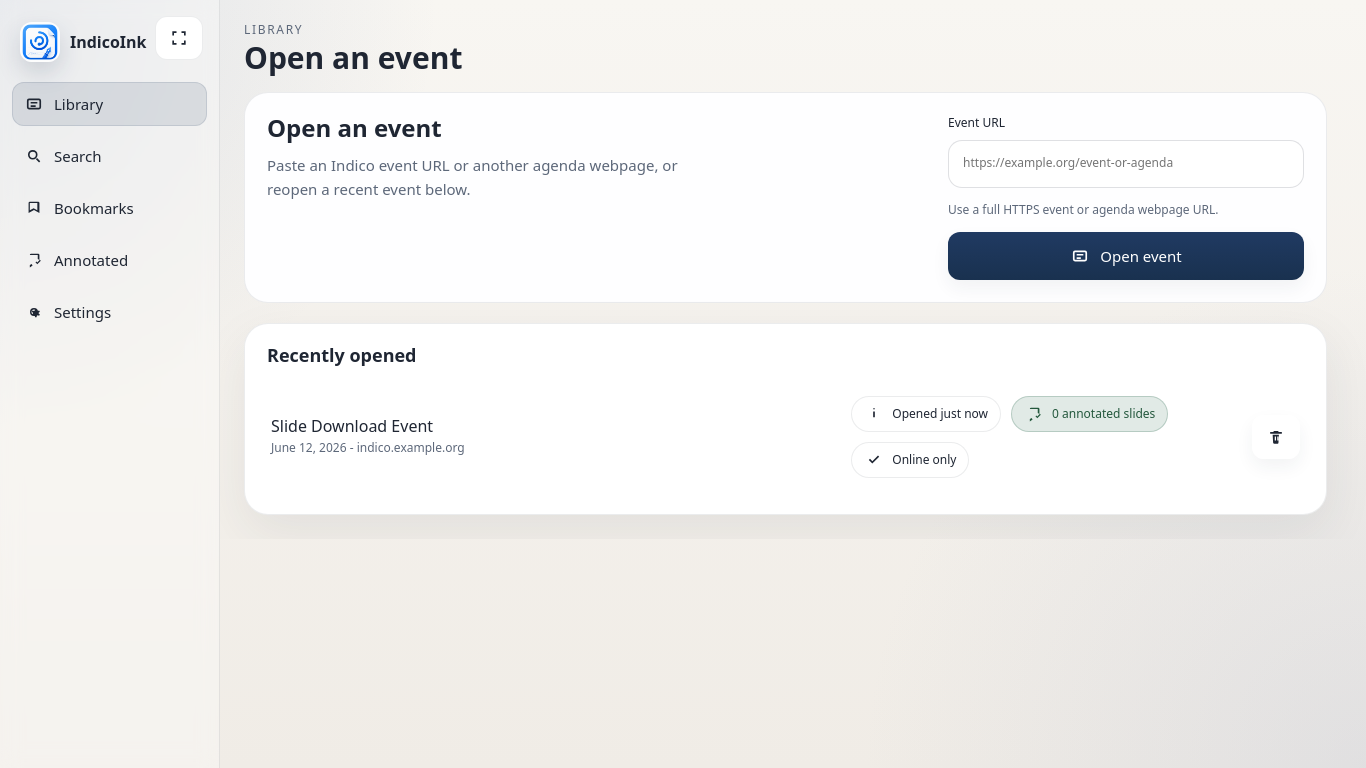
Test case: App › updates slide progress from download events while sampling the transfer rate more slowly
Click the button with aria-label "Open Slide Download Event" at (352,426), box [267,382,1304,492]
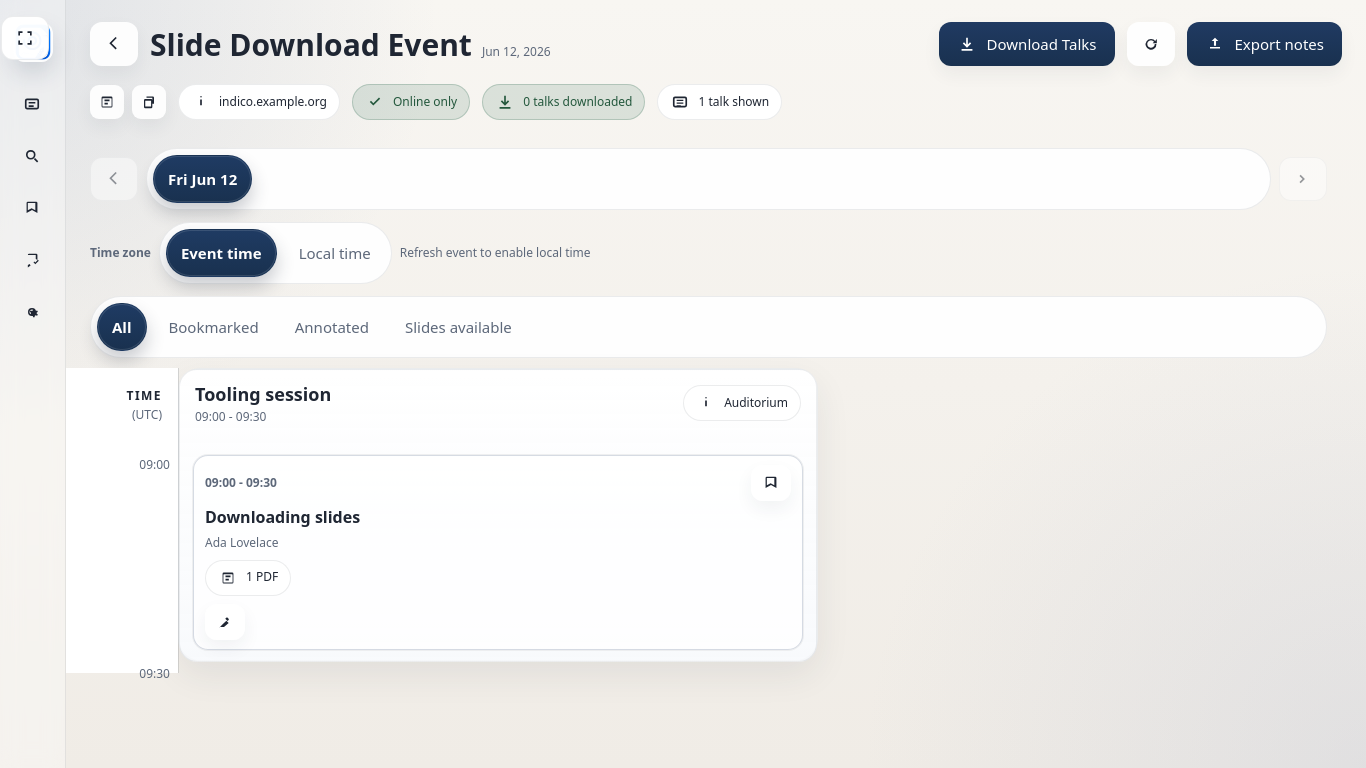
Click the button with aria-label "Open talk for Downloading slides" at (241,482), box [192,454,804,651]
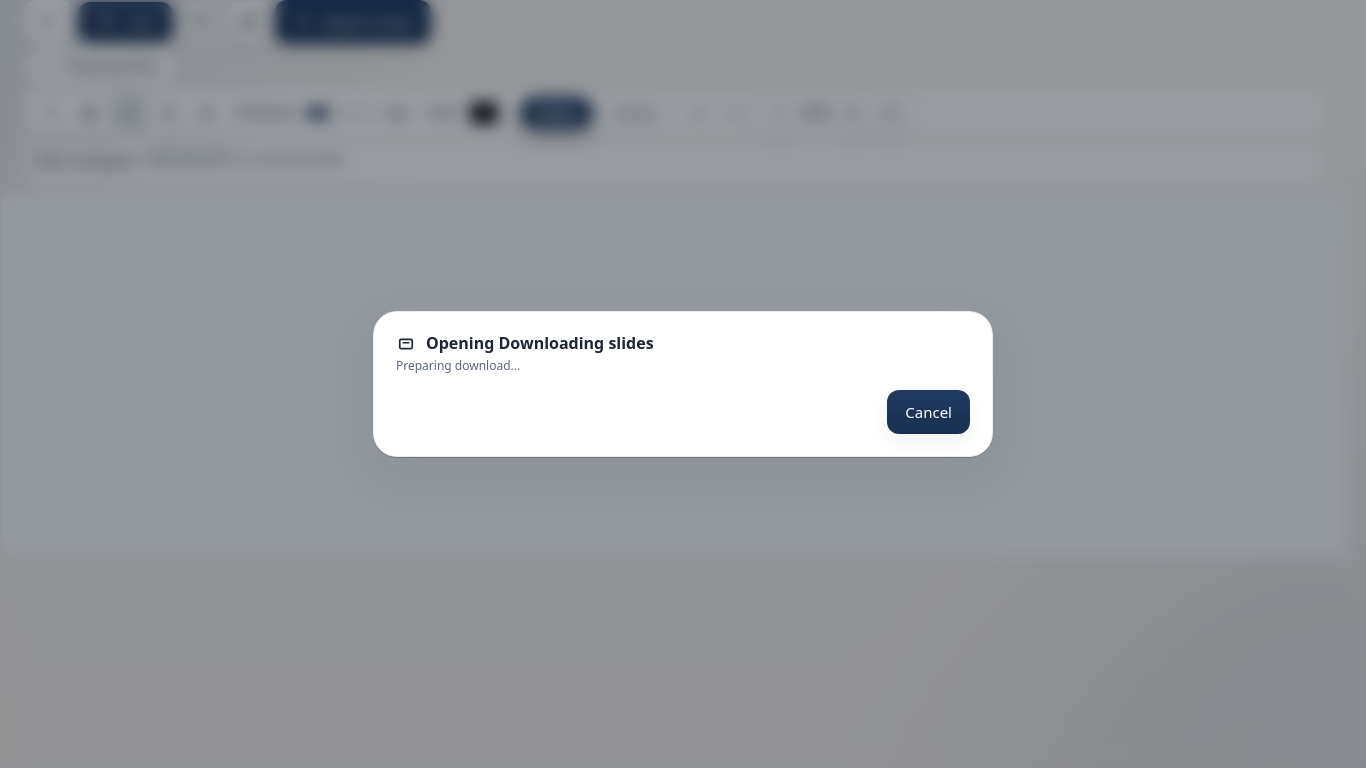
Result: the dialog is shown at [373,311,993,457]
Result: the text "Preparing download..." is shown at [396,357,520,374]
Result: the button "Cancel" is enabled
Click the button "Cancel" at (929,412), box [887,390,970,434]
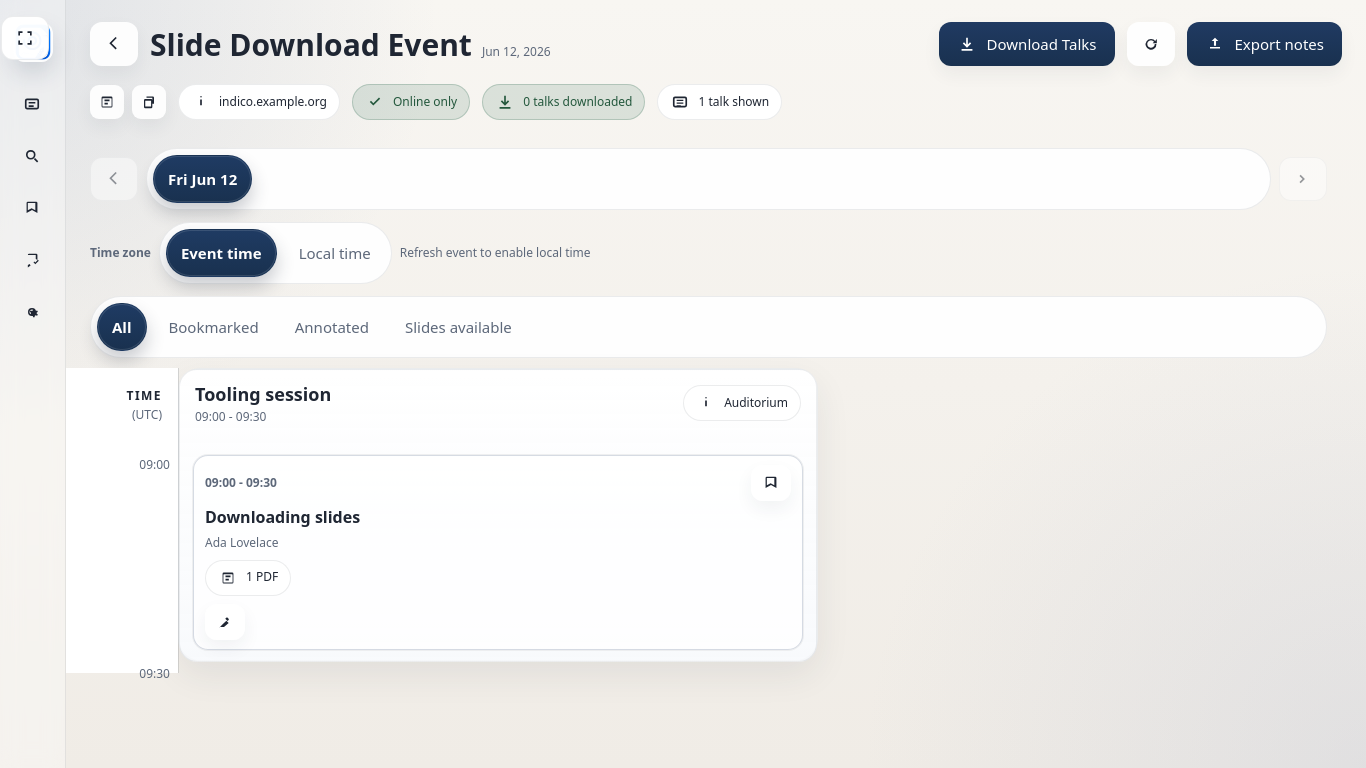
Result: the dialog is gone
Result: the button "Download Talks" is shown at [939,22,1114,66]
Click the button with aria-label "Open talk for Downloading slides" at (241,482), box [192,454,804,651]
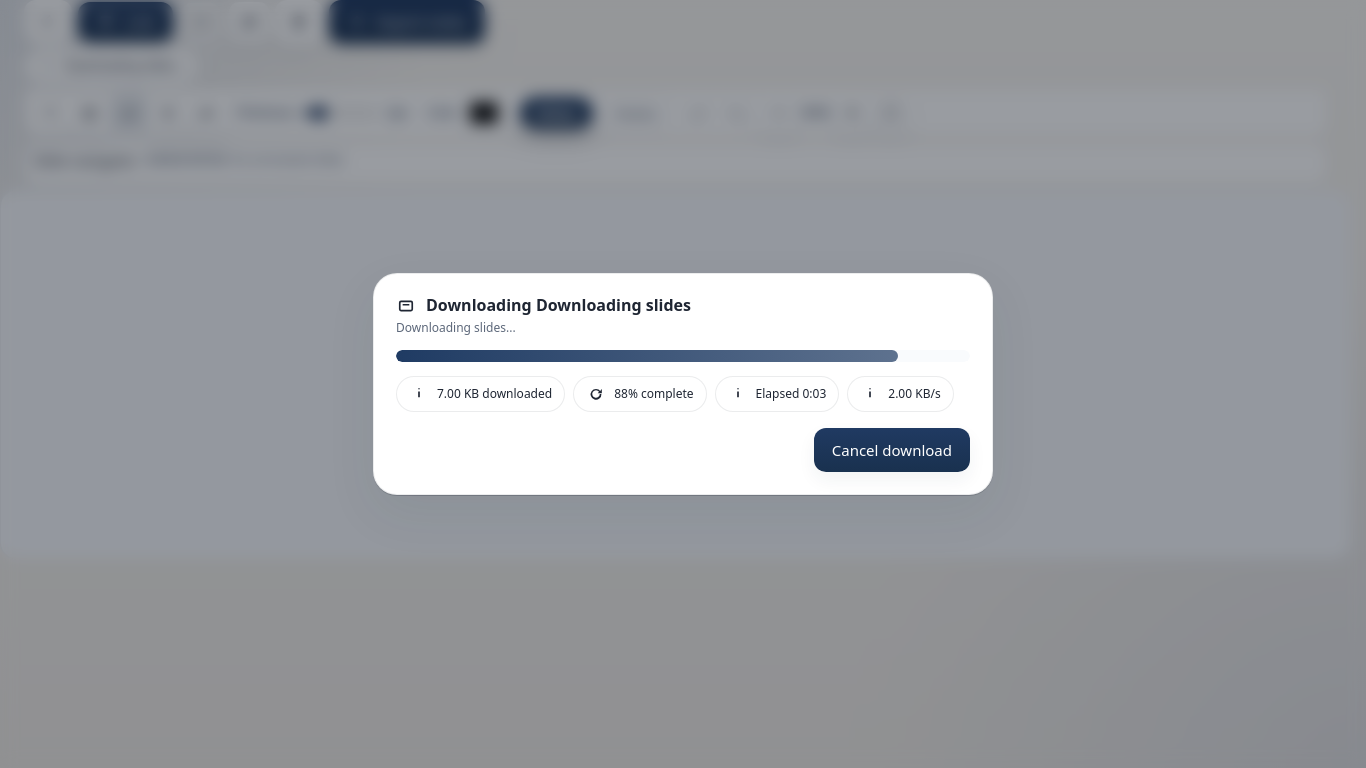
Result: the dialog is shown at [373,273,993,495]
Result: the text "88% complete" is shown at [614,386,694,403]
Result: the text "2.00 KB/s" is shown at [888,386,941,403]
